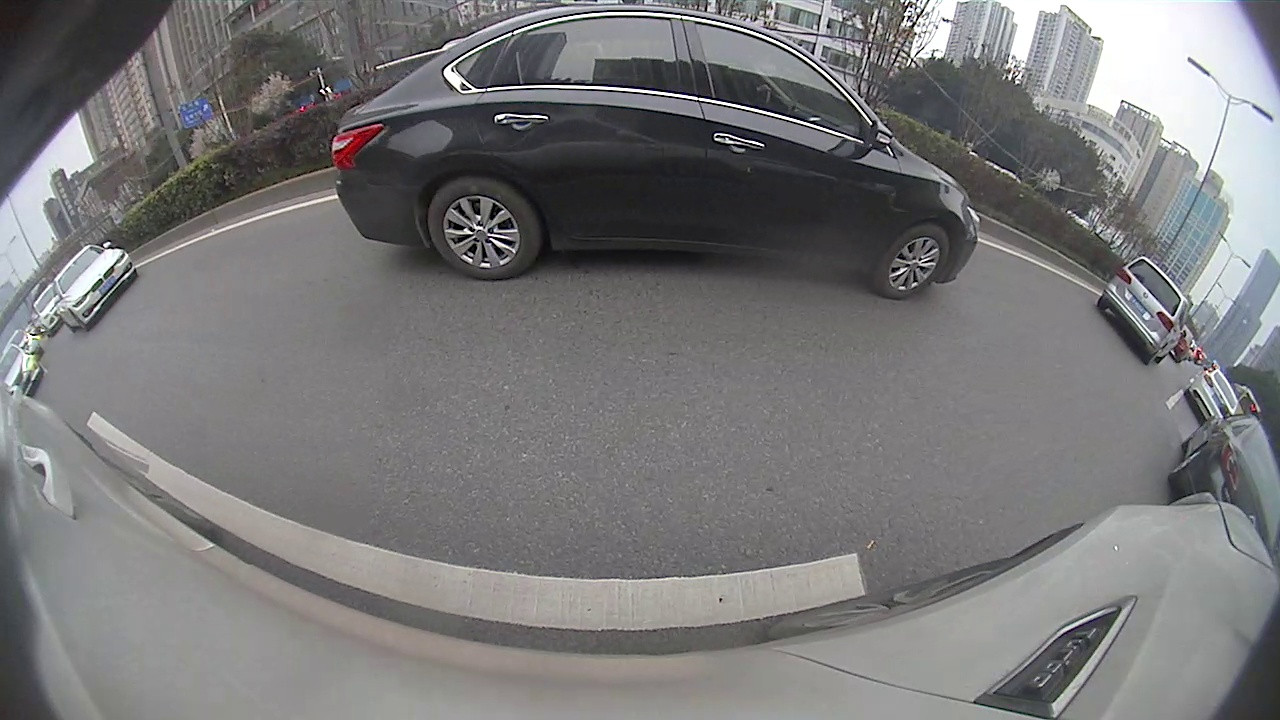car: (336, 173, 432, 225), (422, 160, 519, 203), (696, 144, 764, 197), (1, 332, 51, 400), (526, 161, 573, 189), (627, 159, 659, 184), (506, 168, 531, 192), (568, 163, 595, 181), (659, 161, 678, 178)
